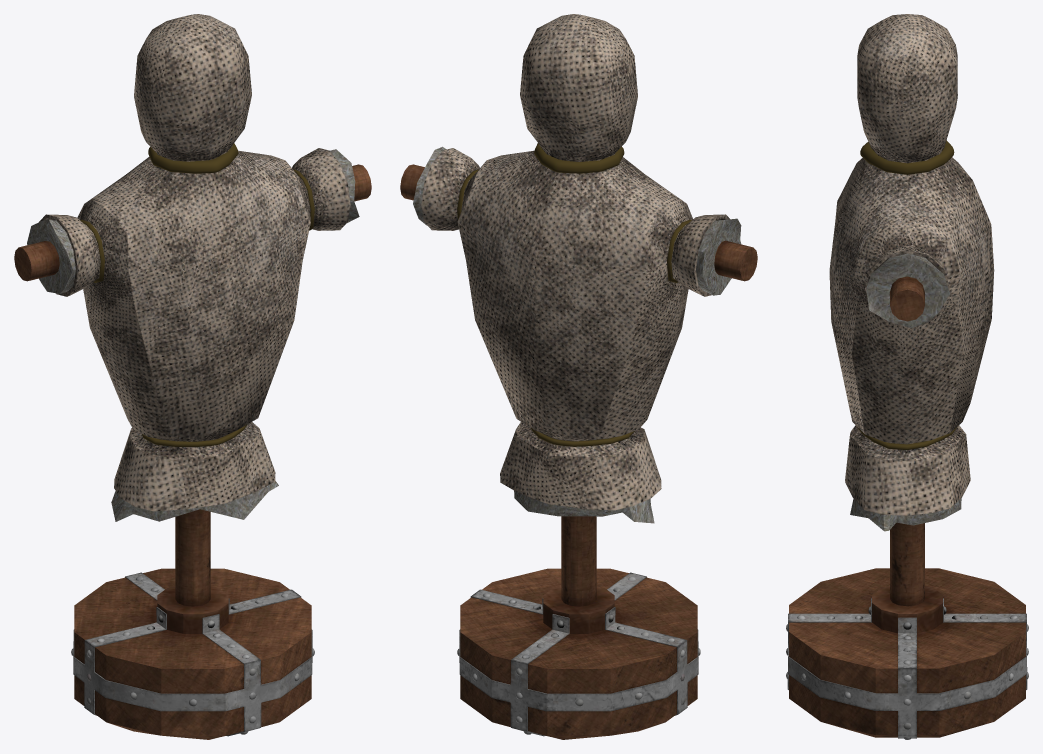
Rendered from Dummy.fbx.
3 views of the same model, side by side, from view 1: azimuth 30°, elevation 25°; view 2: azimuth 150°, elevation 25°; view 3: azimuth 270°, elevation 25° (orthographic).
Visible parts, largest first — view 1: dummy; view 2: dummy; view 3: dummy.
Boxes of the visible parts, bbox=[...] form: dummy: bbox=[14, 14, 371, 739]; dummy: bbox=[400, 14, 757, 739]; dummy: bbox=[786, 14, 1028, 739].
Bounding box in the file's own units: 91.17 × 180 × 56.43.
